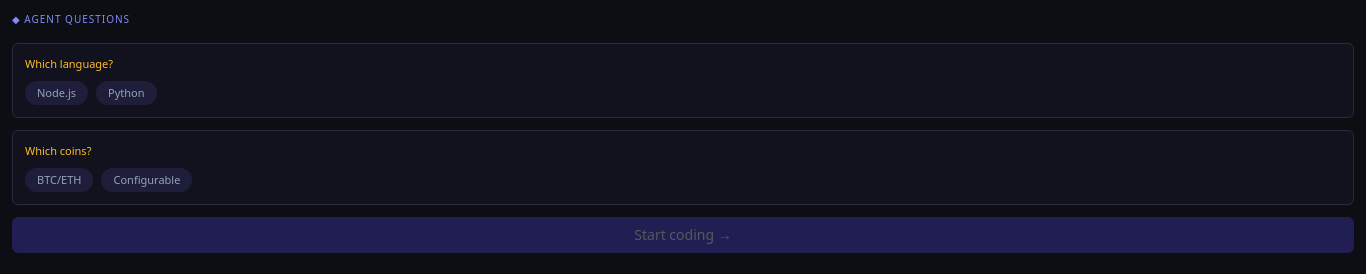
it: QAPanel › "Start coding" is disabled until all questions answered
This screenshot has width=1366, height=274.
Expected: the button "Start coding →" is disabled, [12, 217, 1354, 253]
Click the button "Node.js" at (56, 93), box [25, 80, 88, 105]
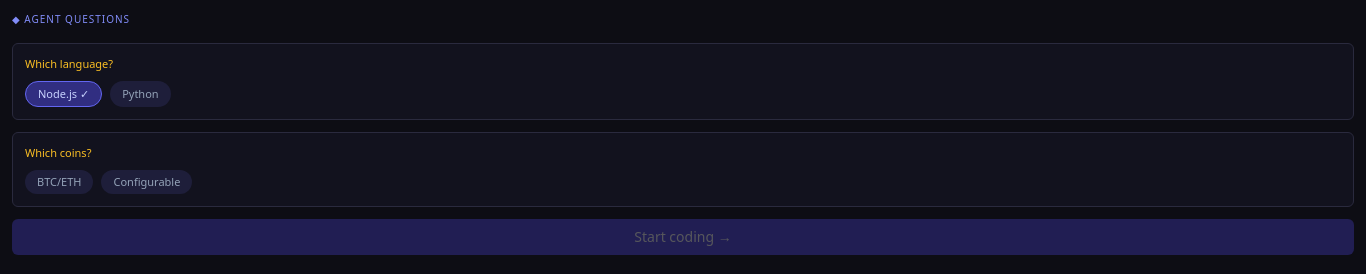
Click the button "BTC/ETH" at (59, 182), box [25, 170, 94, 194]
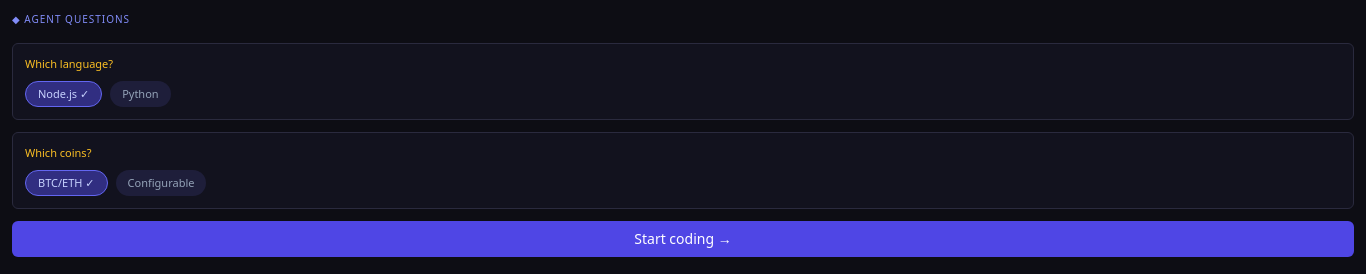
Result: the button "Start coding →" is enabled at [12, 221, 1354, 257]
